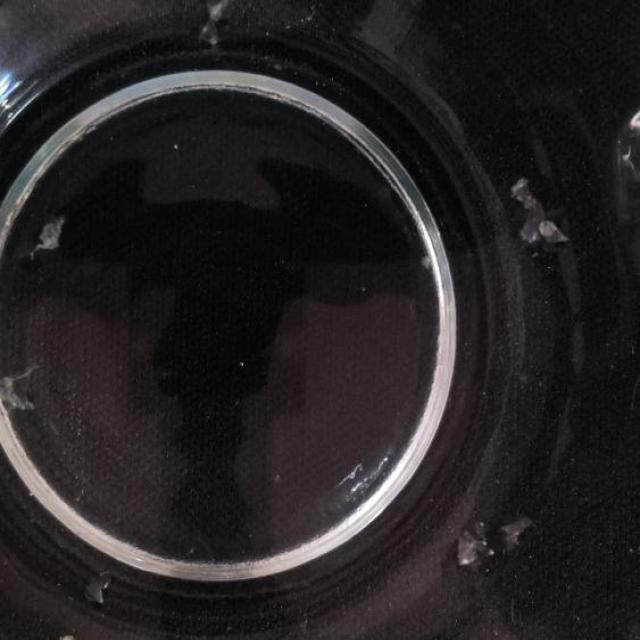fiber: (494, 181, 581, 266), (449, 506, 490, 586), (0, 357, 41, 422), (74, 560, 123, 609), (499, 502, 543, 556), (199, 0, 251, 44), (22, 214, 62, 256), (54, 612, 88, 638)
